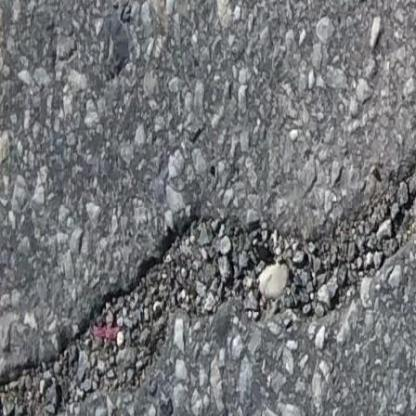Cracks: (0, 136, 416, 371)
